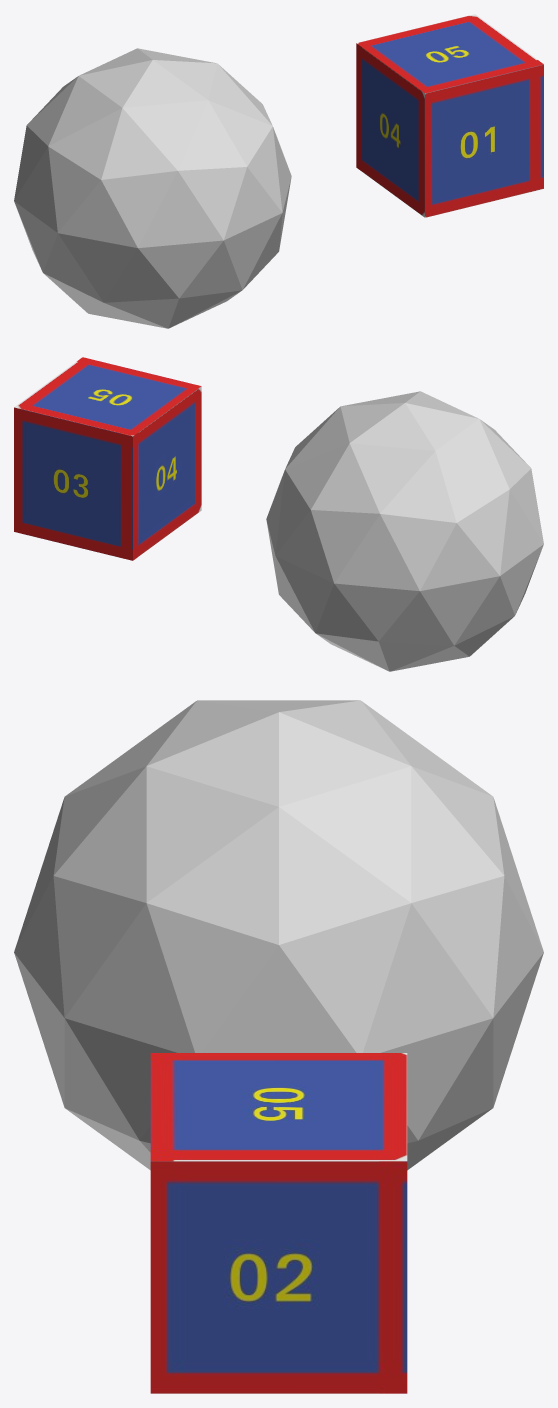
File: piso1.dae
The picture shows the model from 3 angles, top to bottom: view 1: azimuth 30°, elevation 25°; view 2: azimuth 150°, elevation 25°; view 3: azimuth 270°, elevation 25°; orthographic projection. The views are drawn at different scales.
Parts seen in each view (by area): view 1: Icosphere, cubo01; view 2: Icosphere, cubo01; view 3: Icosphere, cubo01.
Part boxes in pixels (left/top/right/bottom): Icosphere: left=14, top=48, right=291, bottom=328; cubo01: left=356, top=14, right=543, bottom=217; Icosphere: left=266, top=391, right=543, bottom=671; cubo01: left=14, top=357, right=201, bottom=560; Icosphere: left=14, top=700, right=543, bottom=1170; cubo01: left=150, top=1053, right=407, bottom=1393.
Size of what is drawn, in the model's own units: 7.97 by 4.13 by 4.13.
1 material, 1 textured.
